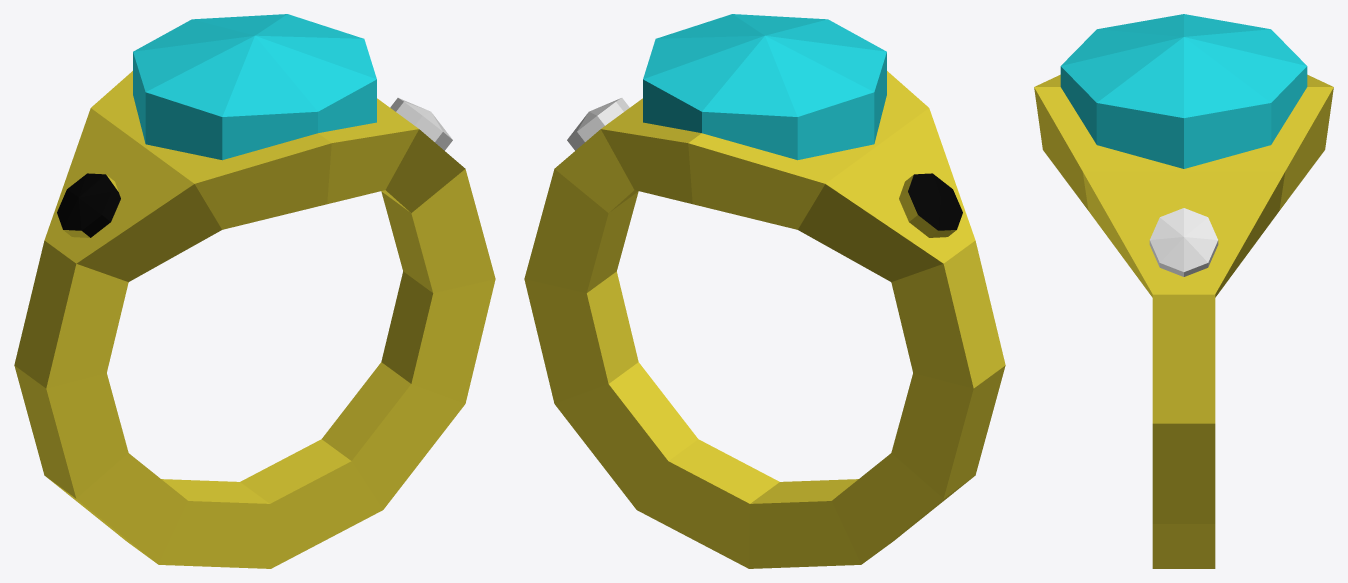
The model's file is Ring_05.fbx.
3 renders of one model, left to right at view 1: azimuth 30°, elevation 25°; view 2: azimuth 150°, elevation 25°; view 3: azimuth 270°, elevation 25°, orthographic. The views are drawn at different scales.
Visible parts, largest first — view 1: Ring_05; view 2: Ring_05; view 3: Ring_05.
Part boxes in pixels (x1=…): Ring_05: x1=14, y1=14, x2=495, y2=568; Ring_05: x1=524, y1=14, x2=1005, y2=568; Ring_05: x1=1034, y1=14, x2=1333, y2=568.
Bounding box in the file's own units: 200 × 222 × 118.
